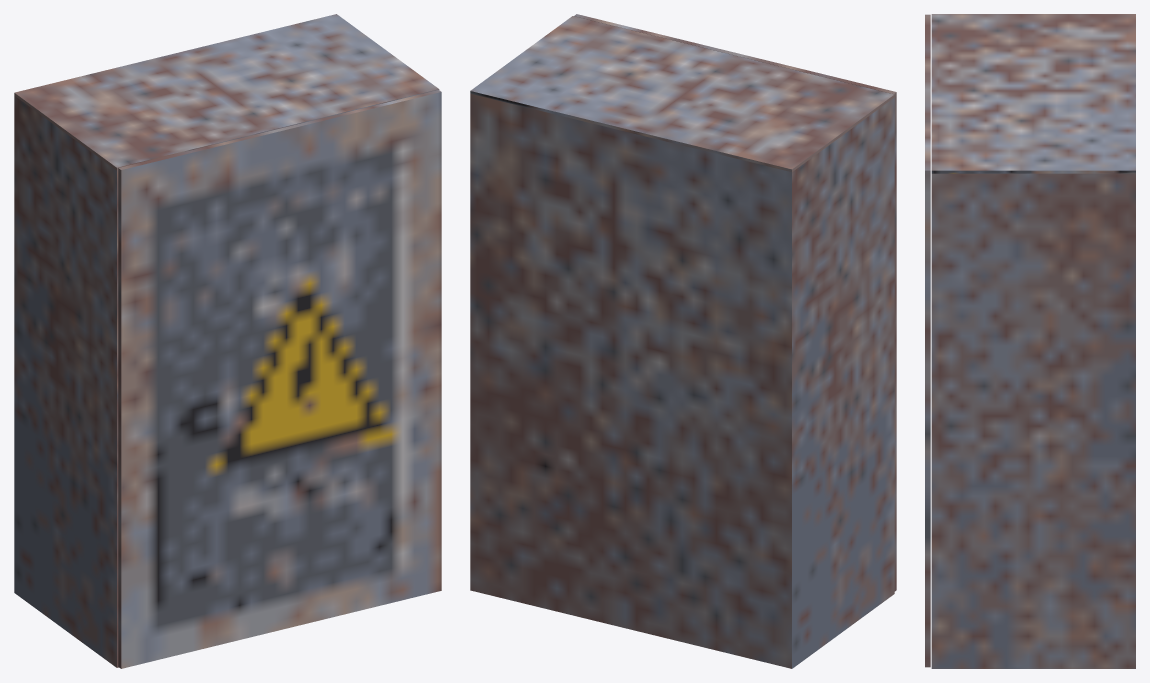
The model's file is fusebox.fbx.
The picture shows the model from 3 angles, left to right: view 1: azimuth 30°, elevation 25°; view 2: azimuth 150°, elevation 25°; view 3: azimuth 270°, elevation 25°; orthographic projection.
Parts seen in each view (by area): view 1: Cube.085, Cube.087; view 2: Cube.087, Cube.085; view 3: Cube.087, Cube.085.
Part boxes in pixels (bbox=[...]): Cube.085: bbox=[118, 90, 441, 668]; Cube.087: bbox=[14, 14, 439, 667]; Cube.087: bbox=[470, 16, 894, 668]; Cube.085: bbox=[574, 14, 896, 591]; Cube.087: bbox=[931, 14, 1135, 668]; Cube.085: bbox=[925, 14, 930, 667].
Bounding box in the file's own units: 47.32 × 70.15 × 26.91.
